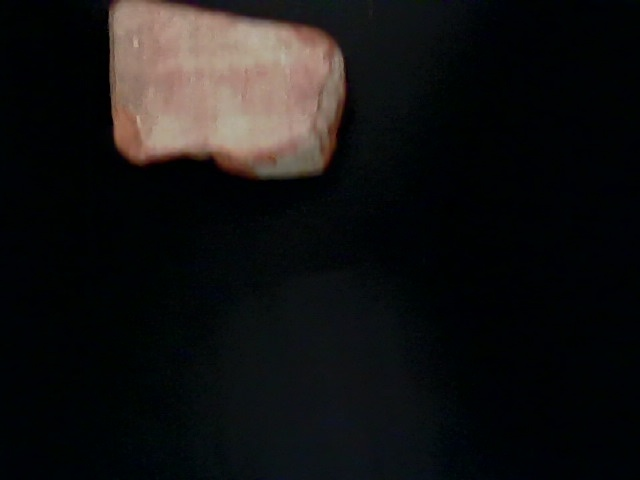KHSLJ: (29, 234, 363, 480)
